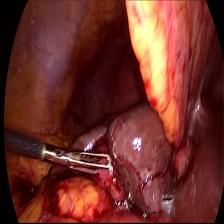Grasper: (48, 139, 112, 188)
